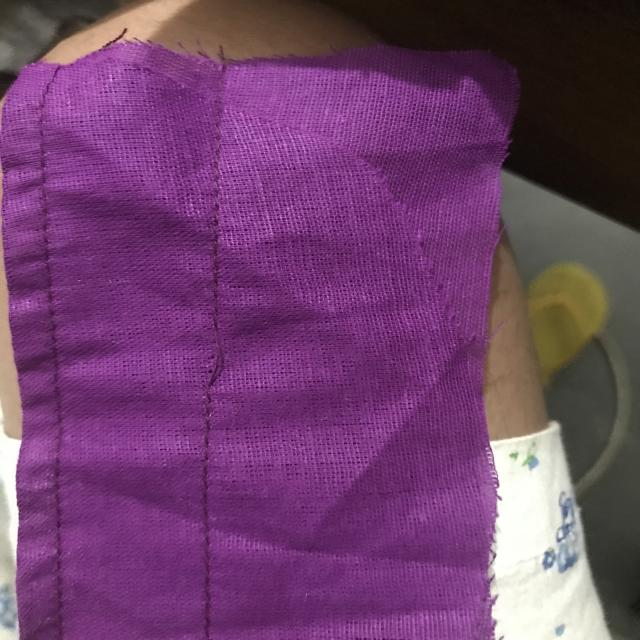good: (197, 429, 222, 527)
skip: (197, 296, 233, 405)
